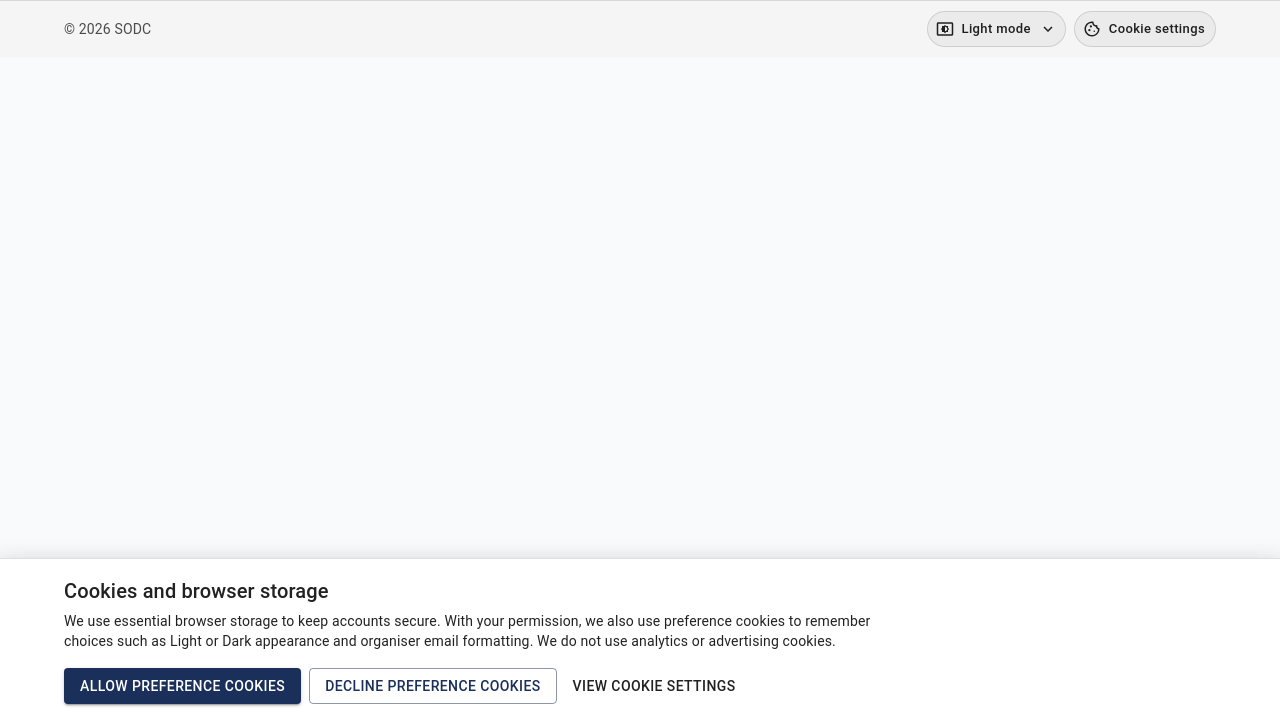
Scenario: site footer and cookie controls › shows an accurate first-visit banner and remembers rejection
The image size is (1280, 720).
Expected: the element "Cookies and browser storage" is shown, [0,558,1279,719]
Expected: the text "do not use analytics or advertising cookies" is shown, [64,614,870,650]
Click the button "Decline preference cookies" at (433, 686), box [309,668,557,704]
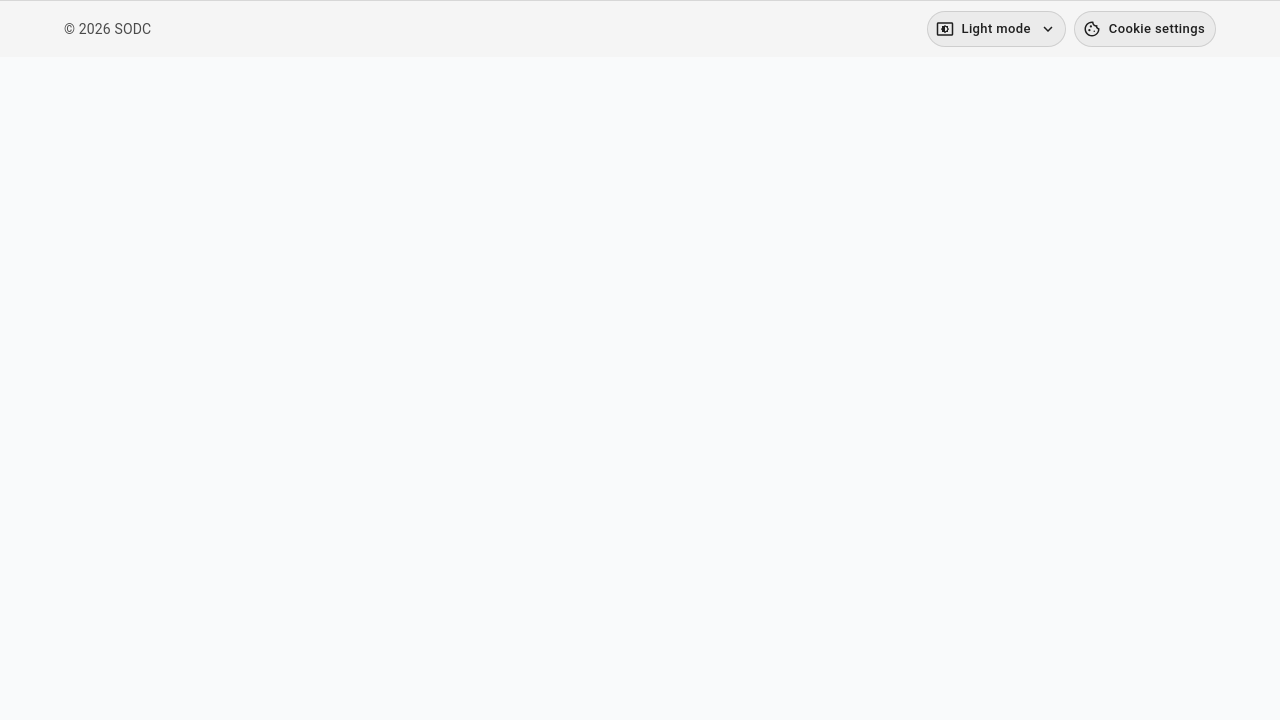
Expected: the heading "Cookies and browser storage" is gone
